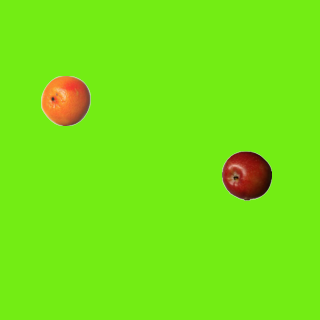Apple Braeburn: (221, 150, 271, 200)
Grapefruit Pink: (40, 75, 90, 125)
